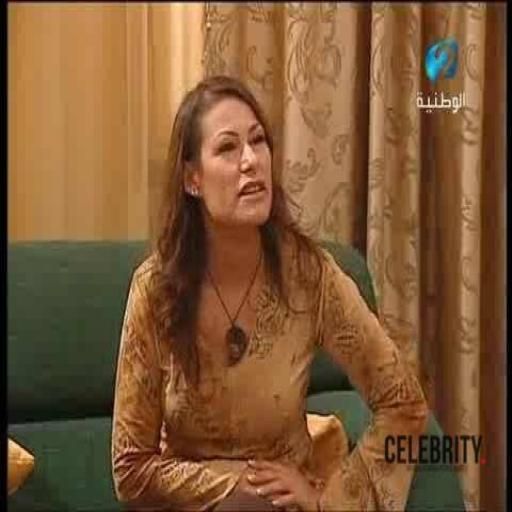zeineb: (183, 97, 272, 238)
